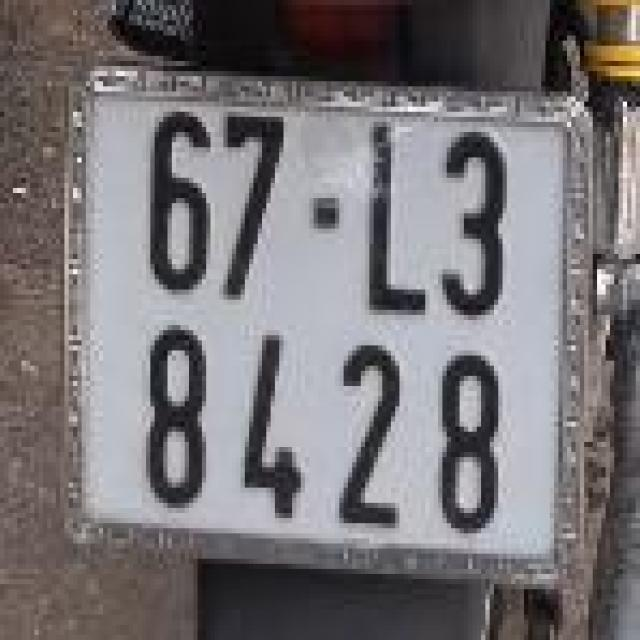2: (324, 335, 414, 544)
3: (442, 112, 516, 335)
4: (238, 325, 316, 533)
6: (136, 99, 222, 302)
7: (219, 99, 292, 302)
8: (136, 312, 222, 521), (425, 346, 511, 548)
L: (350, 102, 432, 315)
